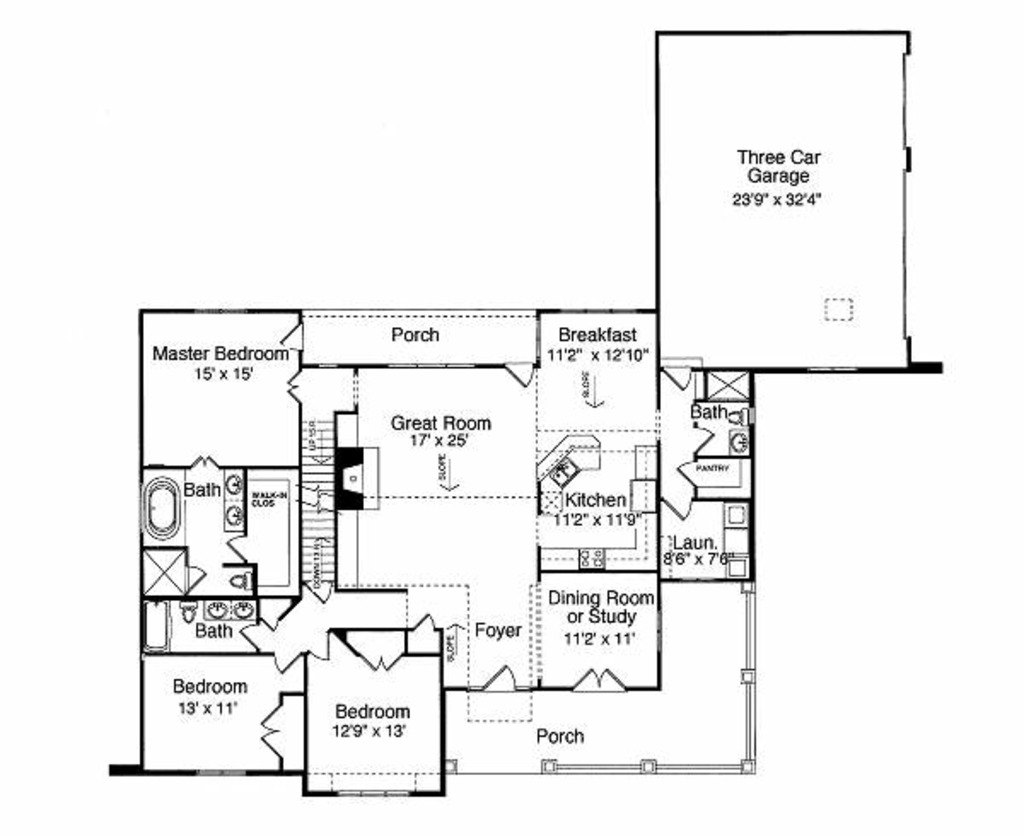door: (256, 694, 287, 765), (293, 575, 347, 611), (472, 656, 523, 694), (502, 351, 543, 395), (572, 663, 634, 691), (656, 348, 694, 392), (673, 454, 708, 500), (306, 630, 348, 665), (658, 492, 698, 526), (356, 645, 406, 672), (282, 366, 311, 407), (277, 320, 312, 351), (409, 608, 447, 631), (223, 533, 248, 566), (691, 422, 715, 456), (239, 623, 267, 651), (272, 650, 302, 676), (189, 449, 221, 473)
large_sink: (223, 567, 261, 595), (174, 601, 206, 629), (725, 401, 760, 426)
small_sink: (220, 466, 245, 532), (202, 601, 262, 620), (723, 429, 754, 464)
stairs: (303, 405, 348, 580)
tub: (147, 601, 177, 655)
twin_sink: (545, 451, 581, 492)
window: (335, 785, 413, 802), (195, 764, 259, 780)
